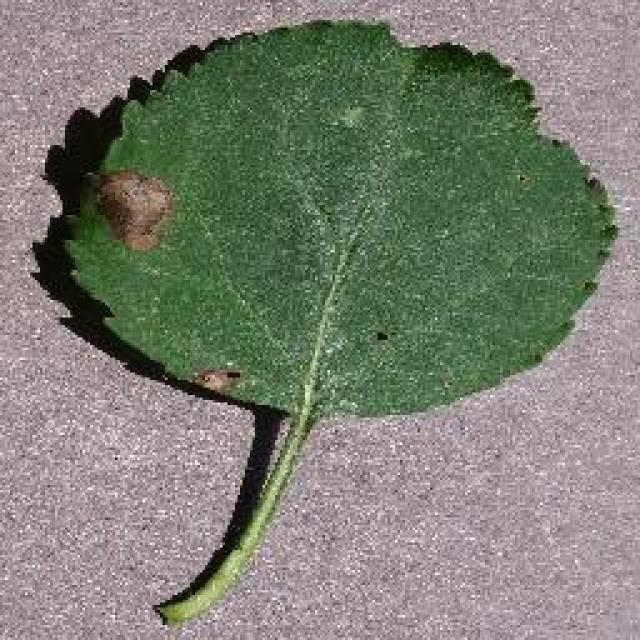Black_rot: (50, 15, 618, 627)
